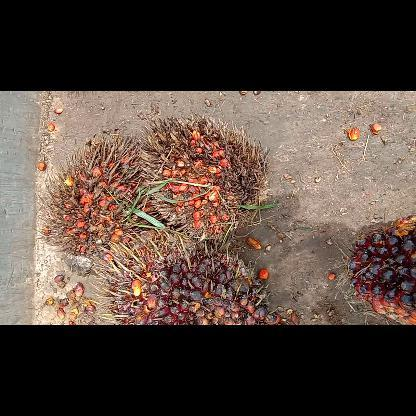TBS masak: (90, 228, 283, 324)
Terlalu masak: (137, 114, 273, 242), (34, 128, 146, 276)
